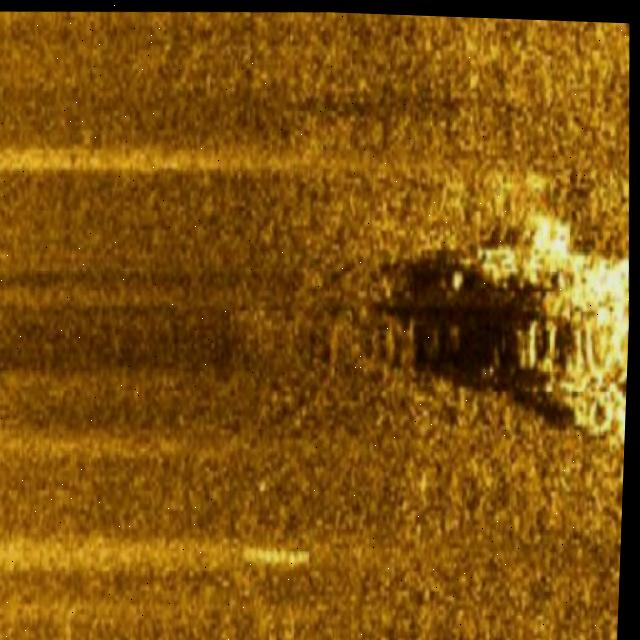bedrock group: (463, 209, 634, 441)
